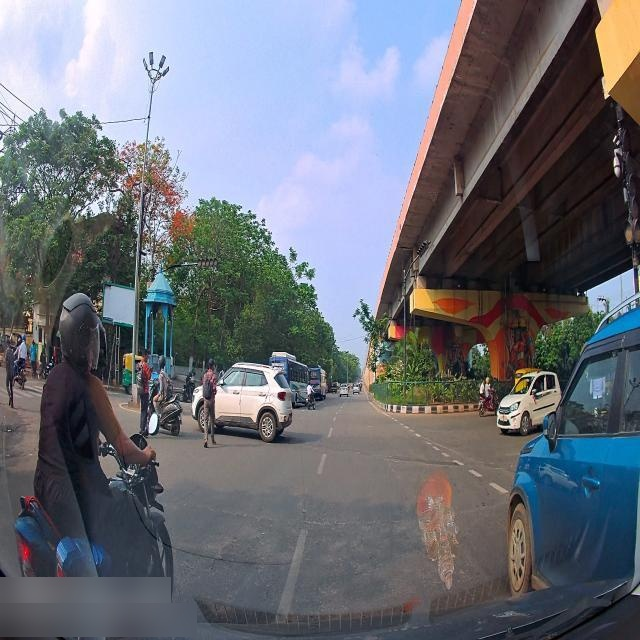pothole: (348, 449, 362, 458)
